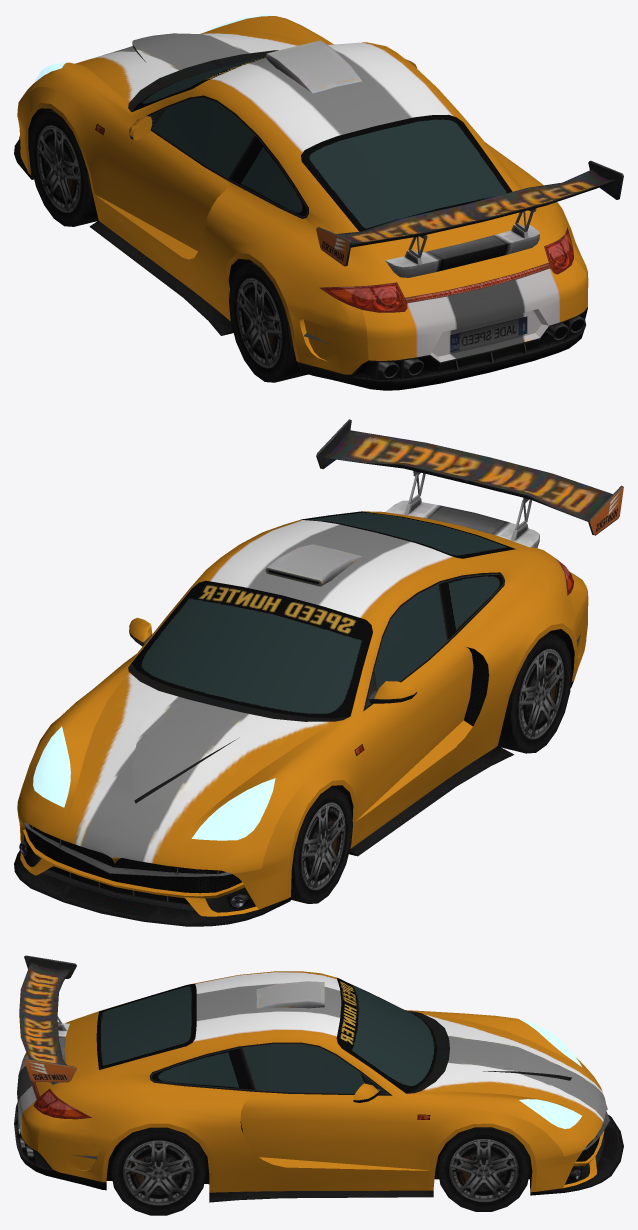
The model's file is car_59.glb.
3 views of the same model, one above another, from view 1: azimuth 30°, elevation 25°; view 2: azimuth 150°, elevation 25°; view 3: azimuth 270°, elevation 25° (orthographic). The views are drawn at different scales.
Parts seen in each view (by area): view 1: car_59; view 2: car_59; view 3: car_59.
Boxes of the visible parts, x1,y1,x2,y2 form: car_59: (14, 14, 623, 390); car_59: (14, 419, 623, 926); car_59: (14, 955, 623, 1215).
Bounding box in the file's own units: 22.48 × 16.08 × 52.07.
Materials: 12 (12 with a texture image).
